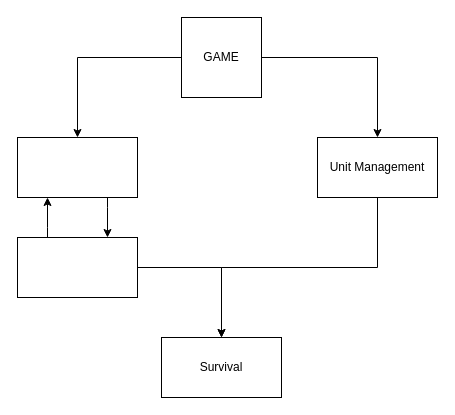
Image size: 455x415. Some labels were removed from this diagram. The centre of each missing label's shape, as x and y in pixels:
Exploration: point 77,267
Sandbox: point 77,167
